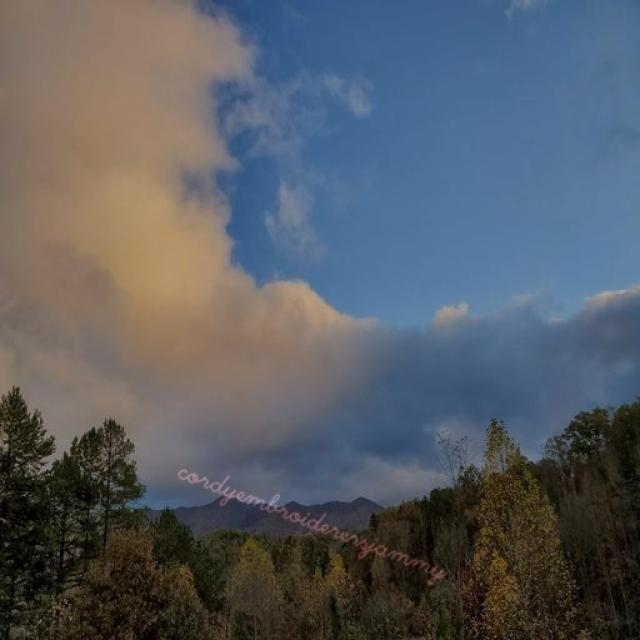watermark: (170, 455, 464, 584)
